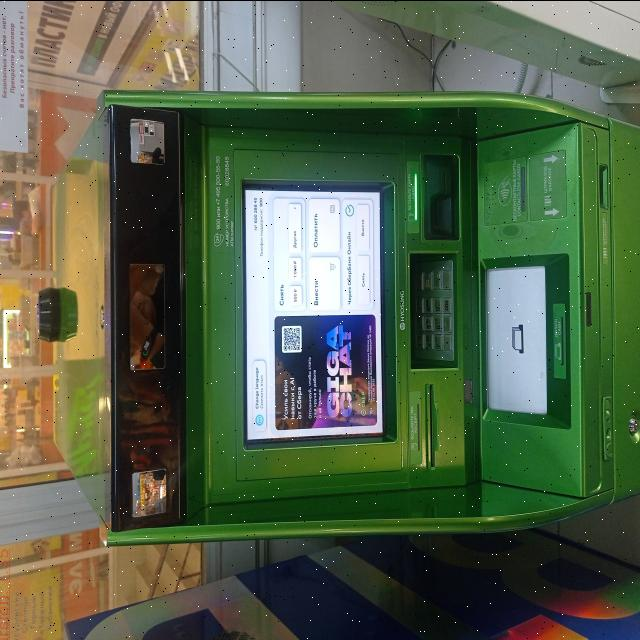bank: (58, 84, 640, 545)
